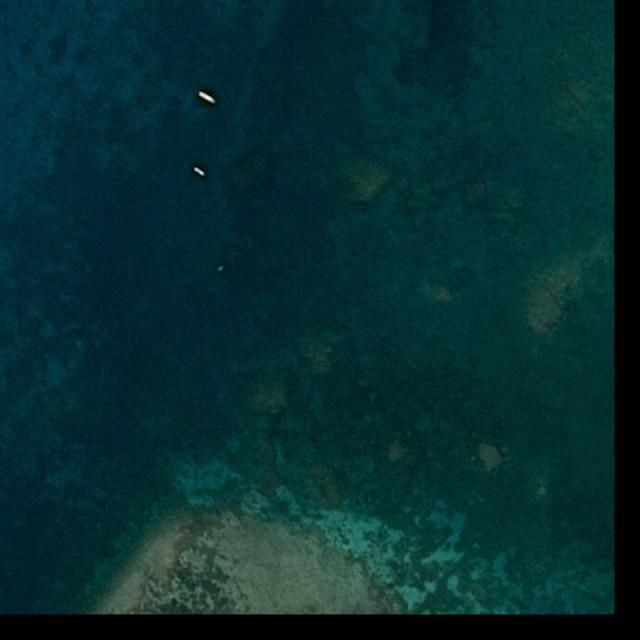ship: (197, 90, 217, 105), (194, 166, 207, 178), (216, 266, 225, 274)
